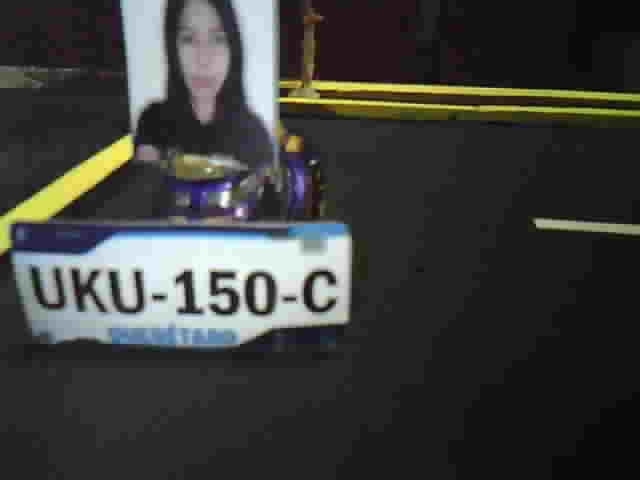PLACA: (6, 219, 357, 356)
ROSTRO: (134, 1, 276, 161)
